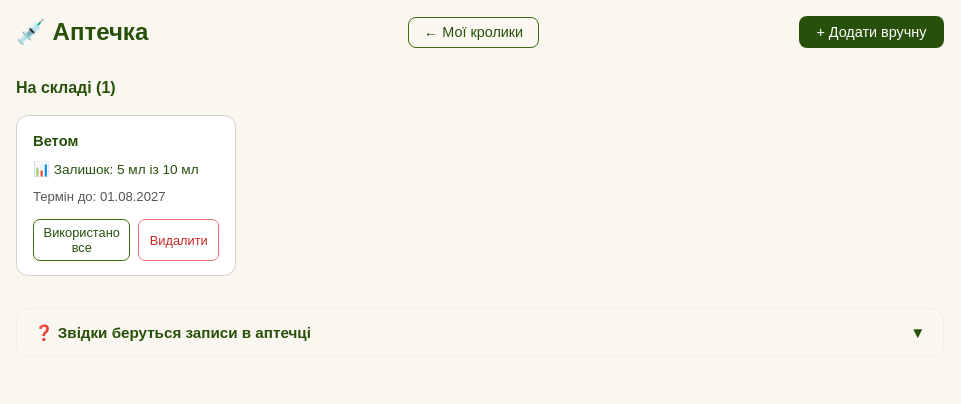
Test: AptechkaPage: помилки Supabase › видалення: помилка показується, препарат лишається
Click the button "Видалити": (179, 240) [138,219,219,261]
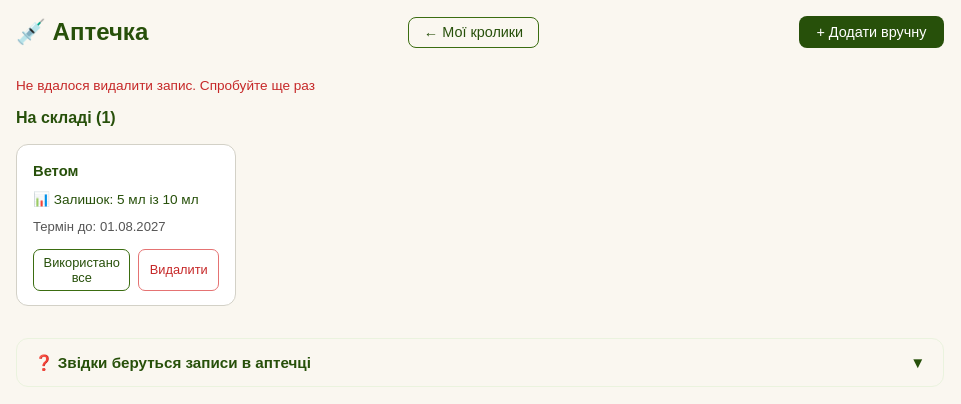
Expected: the text "Ветом" is shown, [33,160,78,183]
Result: the text "Не вдалося видалити запис. Спробуйте ще раз" is shown at [16,78,315,93]
